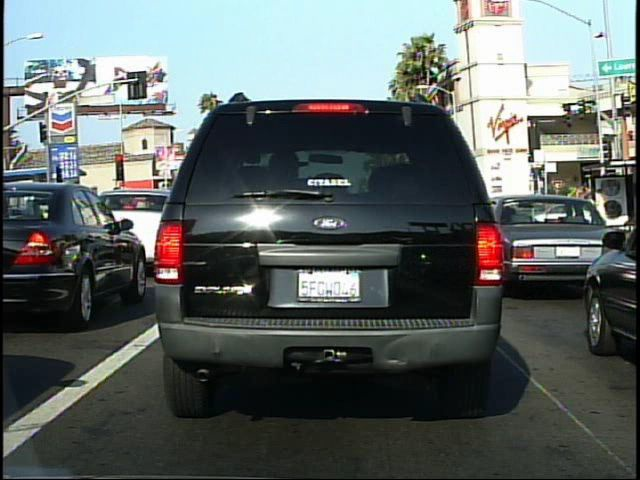person: (592, 184, 612, 240)
